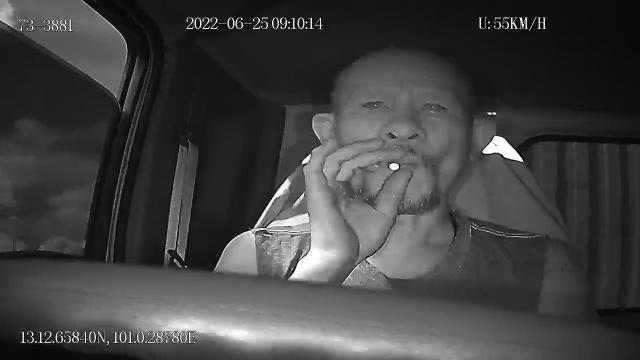SafeDriving: (412, 92, 454, 122), (354, 92, 394, 115)
Smoking: (388, 160, 402, 172)
